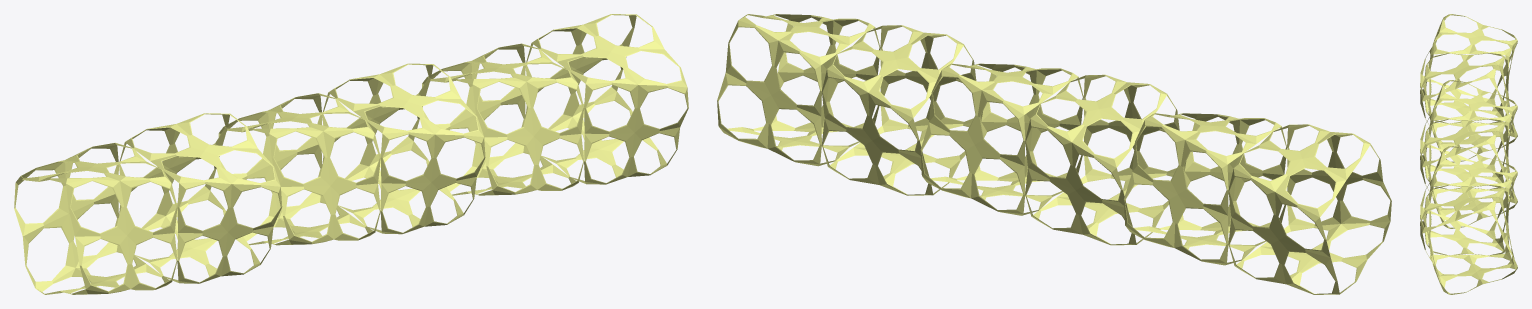
The model's file is CTunnelWireMesh.fbx.
The picture shows the model from 3 angles, left to right: view 1: azimuth 30°, elevation 25°; view 2: azimuth 150°, elevation 25°; view 3: azimuth 270°, elevation 25°; orthographic projection. The views are drawn at different scales.
Parts seen in each view (by area): view 1: a, a.001, a.002; view 2: a, a.001, a.002; view 3: a.001, a.002, a.
Part boxes in pixels (left/top/right/bottom): a: left=14, top=113, right=282, bottom=294; a.001: left=422, top=14, right=688, bottom=195; a.002: left=218, top=63, right=485, bottom=245; a: left=1123, top=113, right=1391, bottom=294; a.001: left=717, top=14, right=982, bottom=195; a.002: left=920, top=63, right=1186, bottom=245; a.001: left=1420, top=146, right=1517, bottom=294; a.002: left=1420, top=80, right=1517, bottom=228; a: left=1420, top=14, right=1517, bottom=162.
Bounding box in the file's own units: 2364 × 495 × 494.
